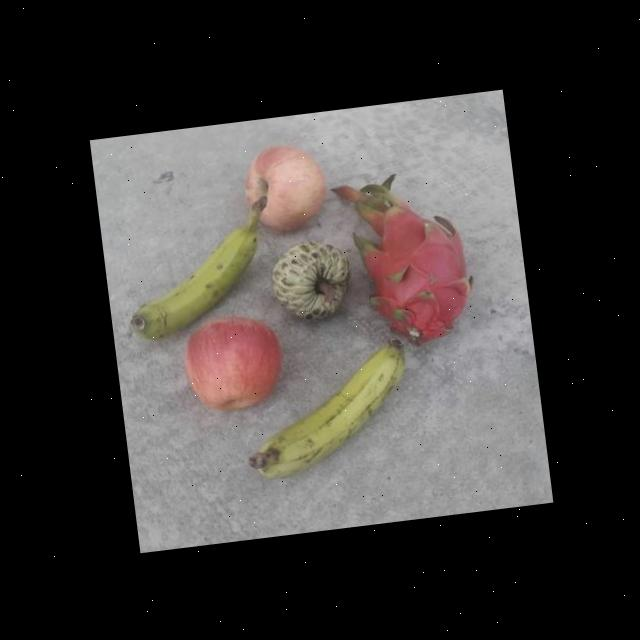Sakya fruit: (264, 232, 358, 328)
apple: (177, 308, 286, 414), (238, 138, 331, 235)
banana: (232, 329, 466, 480), (113, 194, 283, 340)
pitaya: (351, 190, 481, 353)
